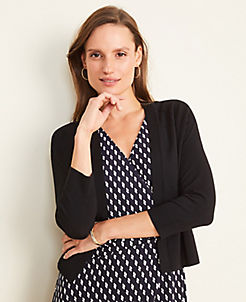F_W_suit jacket: (47, 99, 217, 265)
